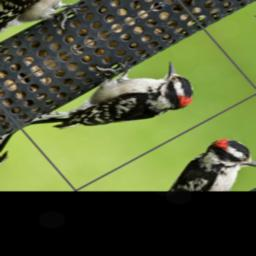Woodpecker: (18, 38, 206, 169)
